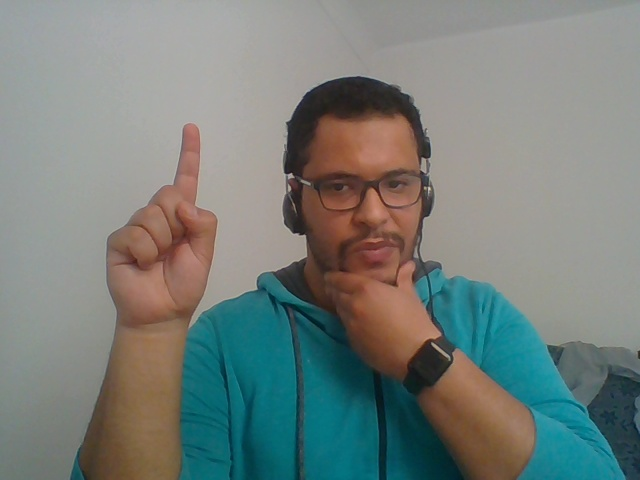handup: (83, 99, 247, 431)
